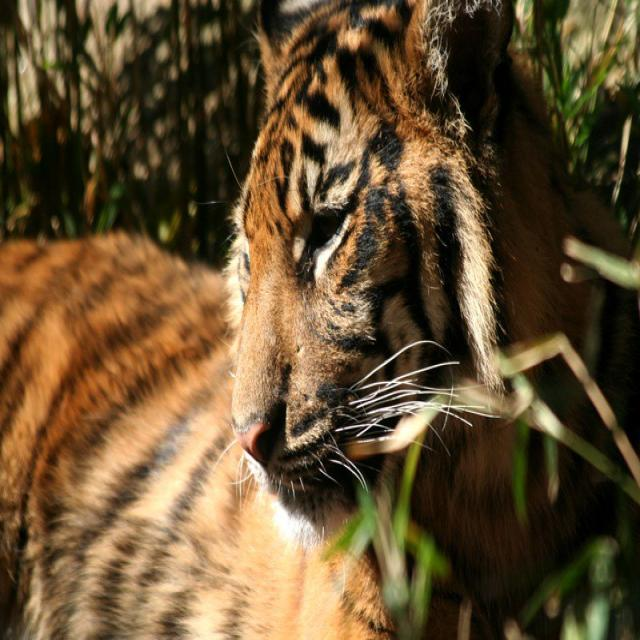Tiger: (2, 0, 576, 635)
